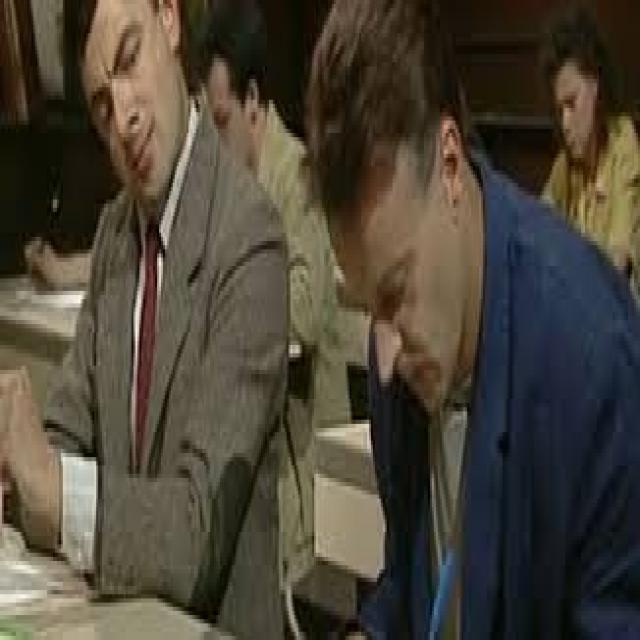cheating: (0, 0, 295, 640)
good: (300, 0, 543, 473)
